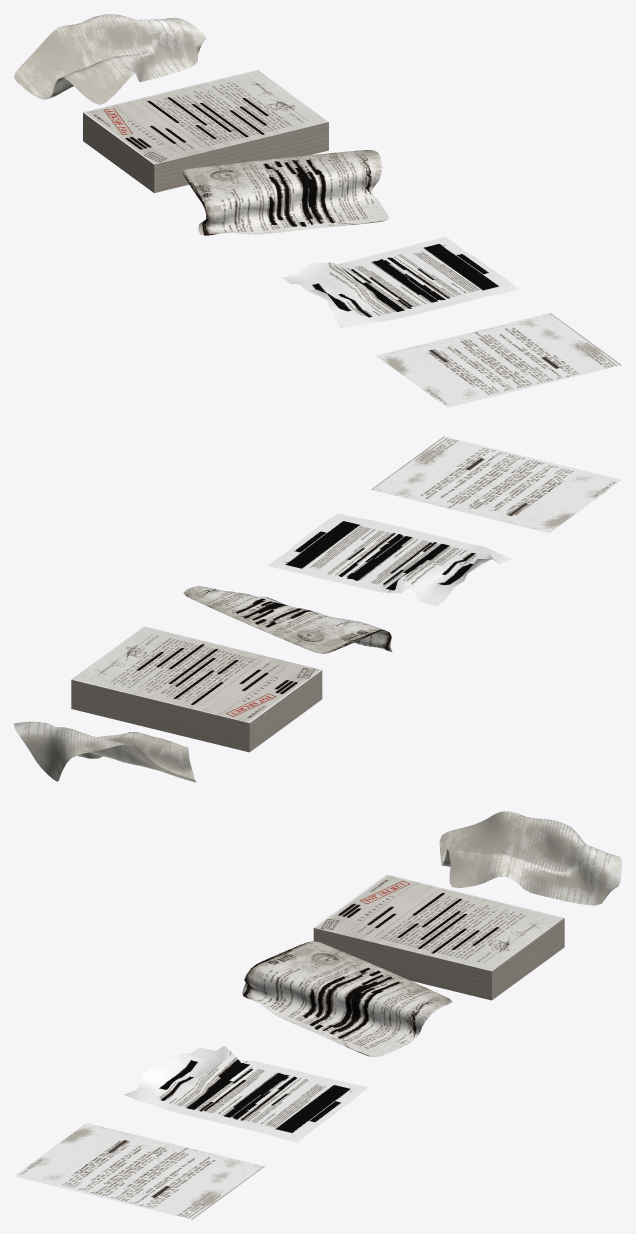
Rendered from OfficeDocuments.fbx.
3 renders of one model, top to bottom at view 1: azimuth 30°, elevation 25°; view 2: azimuth 150°, elevation 25°; view 3: azimuth 330°, elevation 25°, orthographic. The views are drawn at different scales.
Visible parts, largest first — view 1: OfficeDocument_04, OfficeDocument_03, OfficeDocument_05, OfficeDocument_01, OfficeDocument_02; view 2: OfficeDocument_04, OfficeDocument_05, OfficeDocument_01, OfficeDocument_03, OfficeDocument_02; view 3: OfficeDocument_04, OfficeDocument_03, OfficeDocument_05, OfficeDocument_01, OfficeDocument_02.
Boxes of the visible parts, x1,y1,x2,y2 form: OfficeDocument_04: (83,70,328,192); OfficeDocument_03: (182,150,388,235); OfficeDocument_05: (376,313,621,407); OfficeDocument_01: (282,237,518,327); OfficeDocument_02: (14,14,205,104); OfficeDocument_04: (71,626,322,752); OfficeDocument_05: (371,436,621,532); OfficeDocument_01: (268,513,511,606); OfficeDocument_03: (183,585,392,653); OfficeDocument_02: (14,721,196,782); OfficeDocument_04: (313,874,564,1000); OfficeDocument_03: (242,941,452,1057); OfficeDocument_05: (14,1123,264,1219); OfficeDocument_01: (124,1045,367,1142); OfficeDocument_02: (439,811,621,905).
Bounding box in the file's own units: 32.41 × 8.04 × 132.
